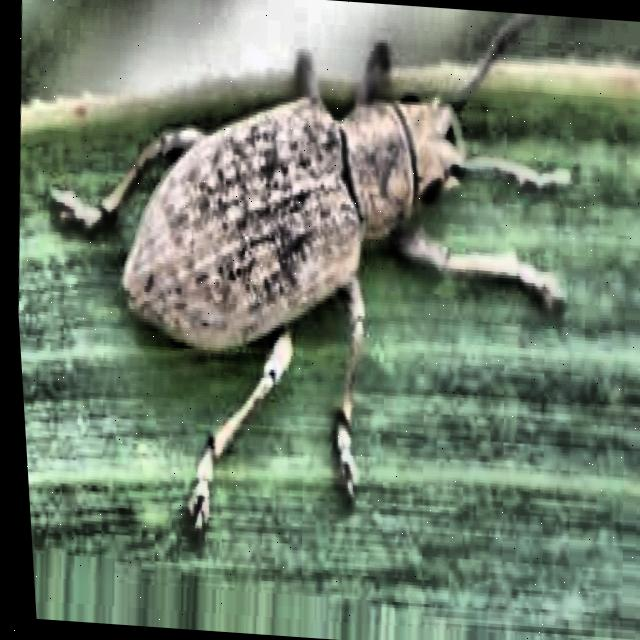Stink bug: (38, 7, 541, 491)
